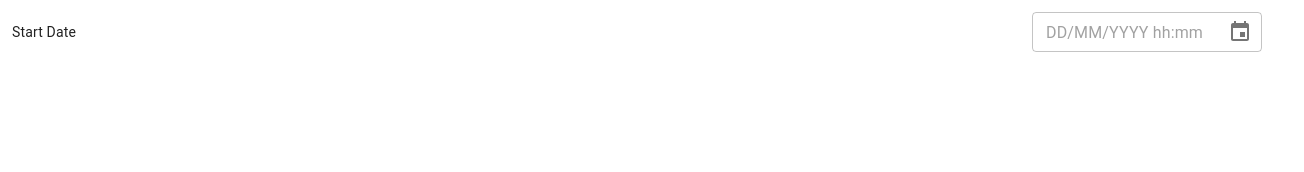
CardDateField › an impossible date › is reported as incomplete too, and said to be invalid
Click the number field labelled "DD" at (1057, 32), box x1=1046 y1=22 x2=1067 y2=42
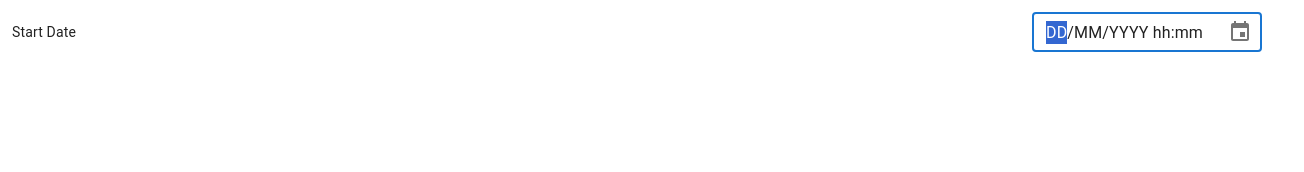
Type keys "310220261000"
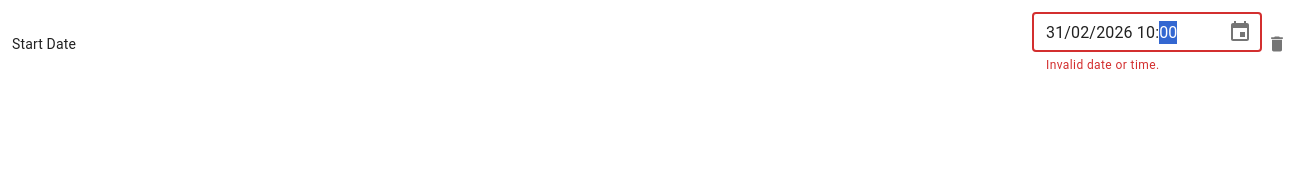
Now the text "Invalid date or time." is shown, box x1=1046 y1=58 x2=1160 y2=72
